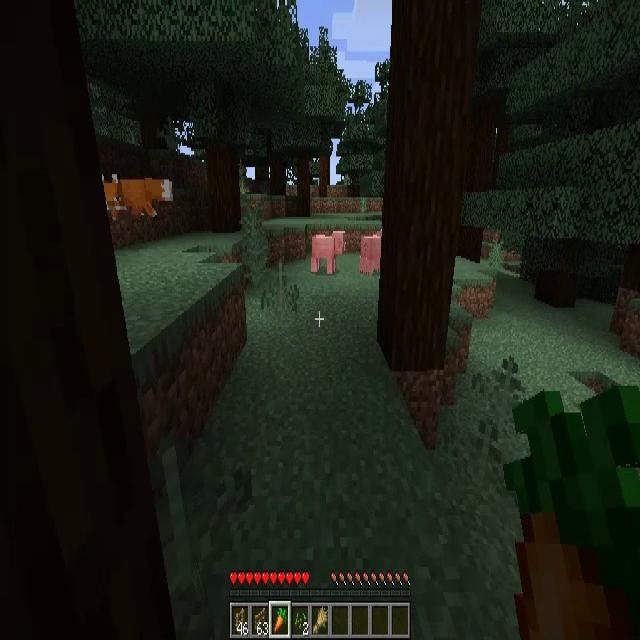pig: (309, 229, 345, 275), (361, 230, 382, 275)
